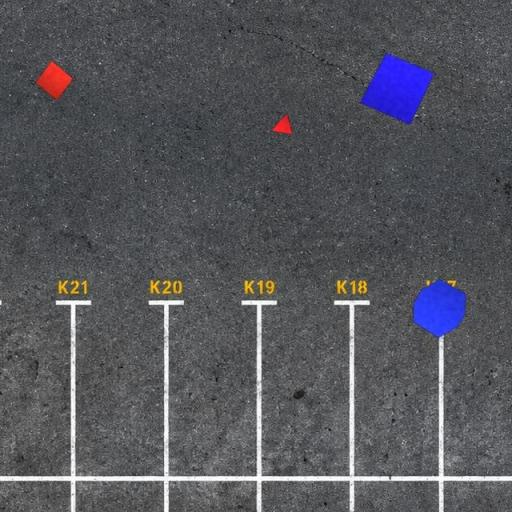BLUE_SQUARE: (359, 52, 435, 126)
RED_SQUARE: (34, 59, 74, 102)
